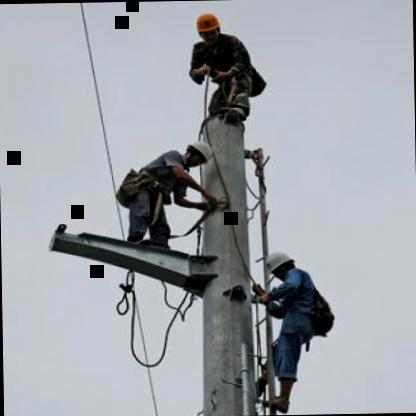helmet: (264, 245, 298, 280), (178, 136, 214, 168), (192, 12, 223, 46)
